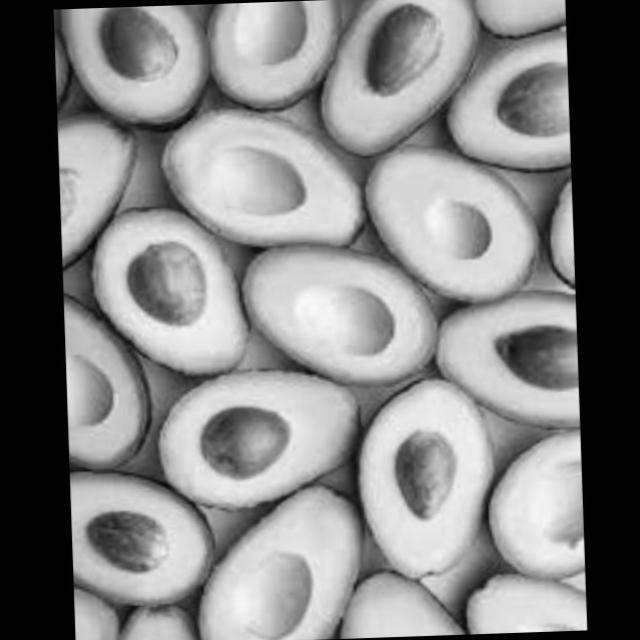bo: (166, 360, 374, 541), (100, 198, 272, 405), (160, 99, 388, 247), (320, 0, 510, 170), (355, 388, 510, 594), (238, 252, 450, 388), (362, 144, 548, 294), (199, 484, 375, 640), (60, 3, 242, 144), (449, 288, 582, 456), (70, 469, 204, 632), (195, 0, 359, 122), (64, 290, 164, 484), (57, 107, 156, 285), (458, 44, 572, 174), (484, 462, 586, 574), (339, 564, 475, 638), (455, 577, 588, 634), (478, 0, 568, 57)
